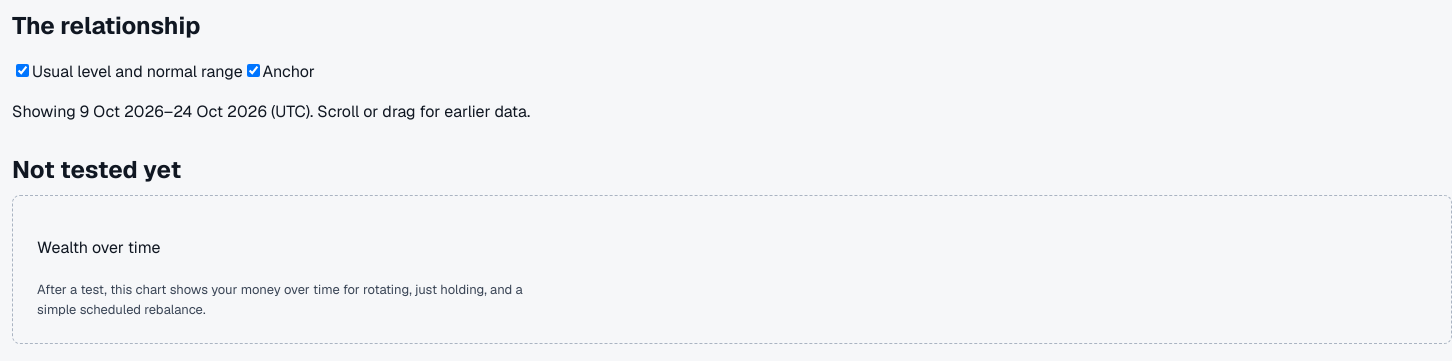
Scenario: LabCharts visible dates › tracks the recreated chart after bands or anchor change
The image size is (1452, 361).
Click the checkbox labelled "Usual level and normal range" at {"x": 22, "y": 70}, box [16,64,29,76]
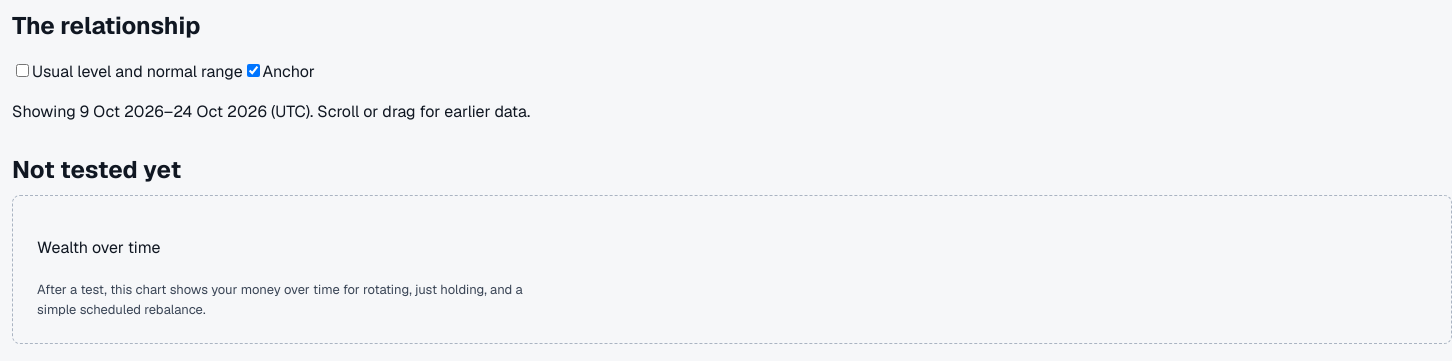
Expected: the text "Showing " is shown, [12,100,80,122]
Click the checkbox labelled "Anchor" at {"x": 253, "y": 70}, box [247,64,260,76]
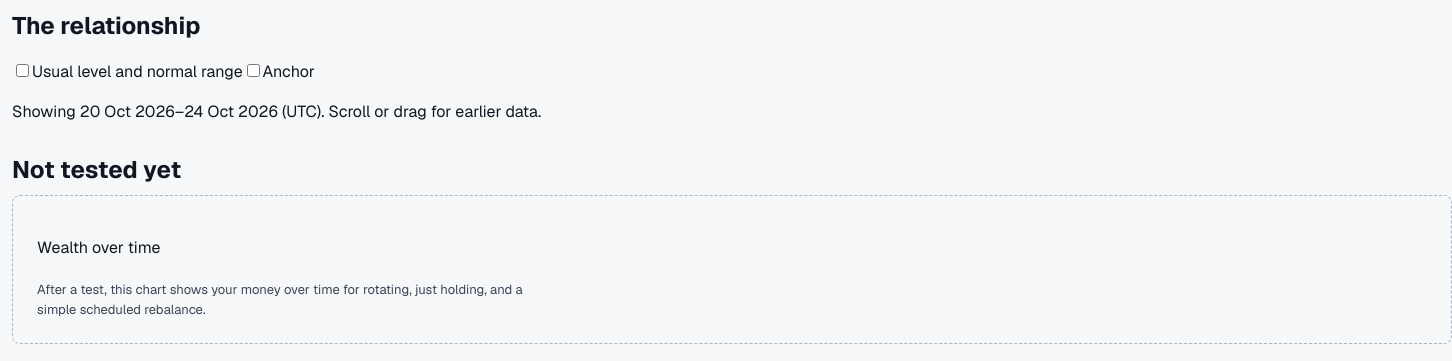
Result: the text "Showing " shows "Showing 20 Oct 2026–24 Oct 2026 (UTC)." at [12,100,541,122]
